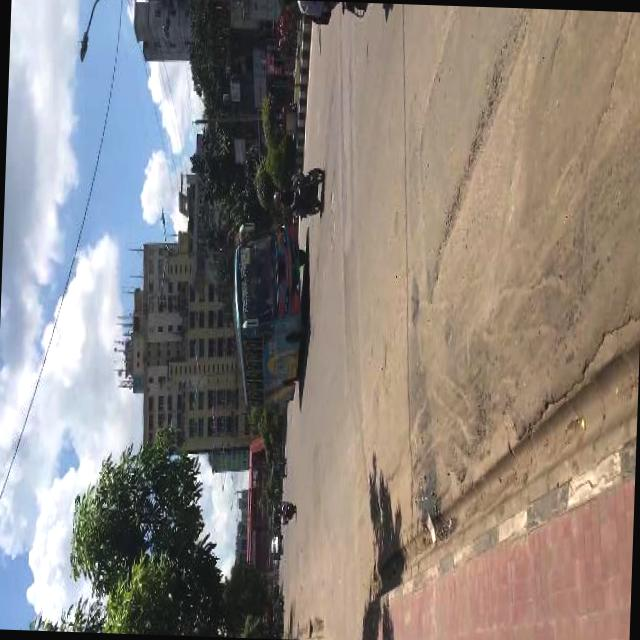bus: (224, 219, 308, 410)
motorcycle: (270, 163, 322, 217), (273, 496, 296, 517), (270, 452, 286, 476), (272, 592, 284, 608)
truck: (268, 532, 282, 552)
